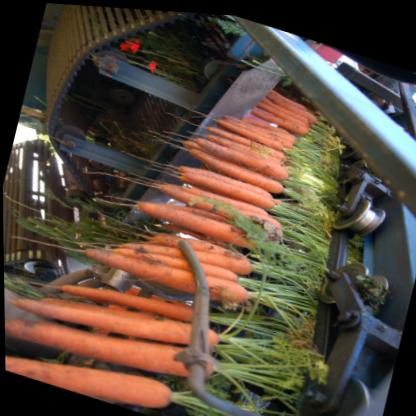carrot: (118, 186, 276, 255), (187, 131, 305, 183), (179, 143, 298, 193), (174, 157, 286, 209)
